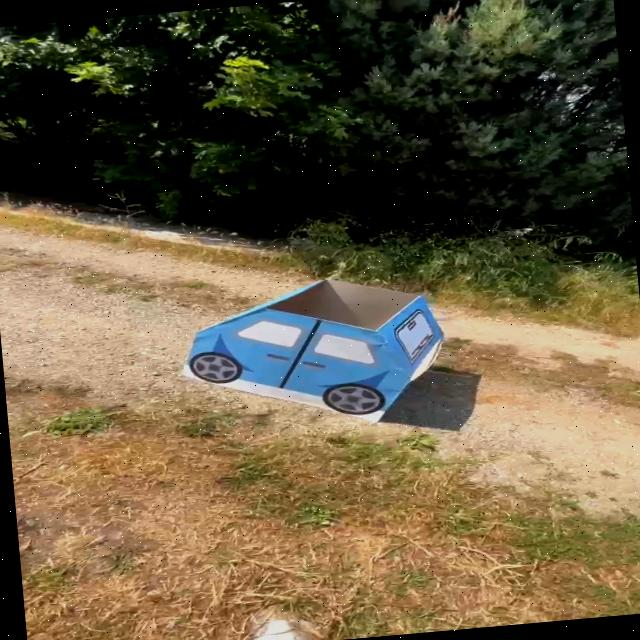blue_car: (146, 258, 471, 453)
